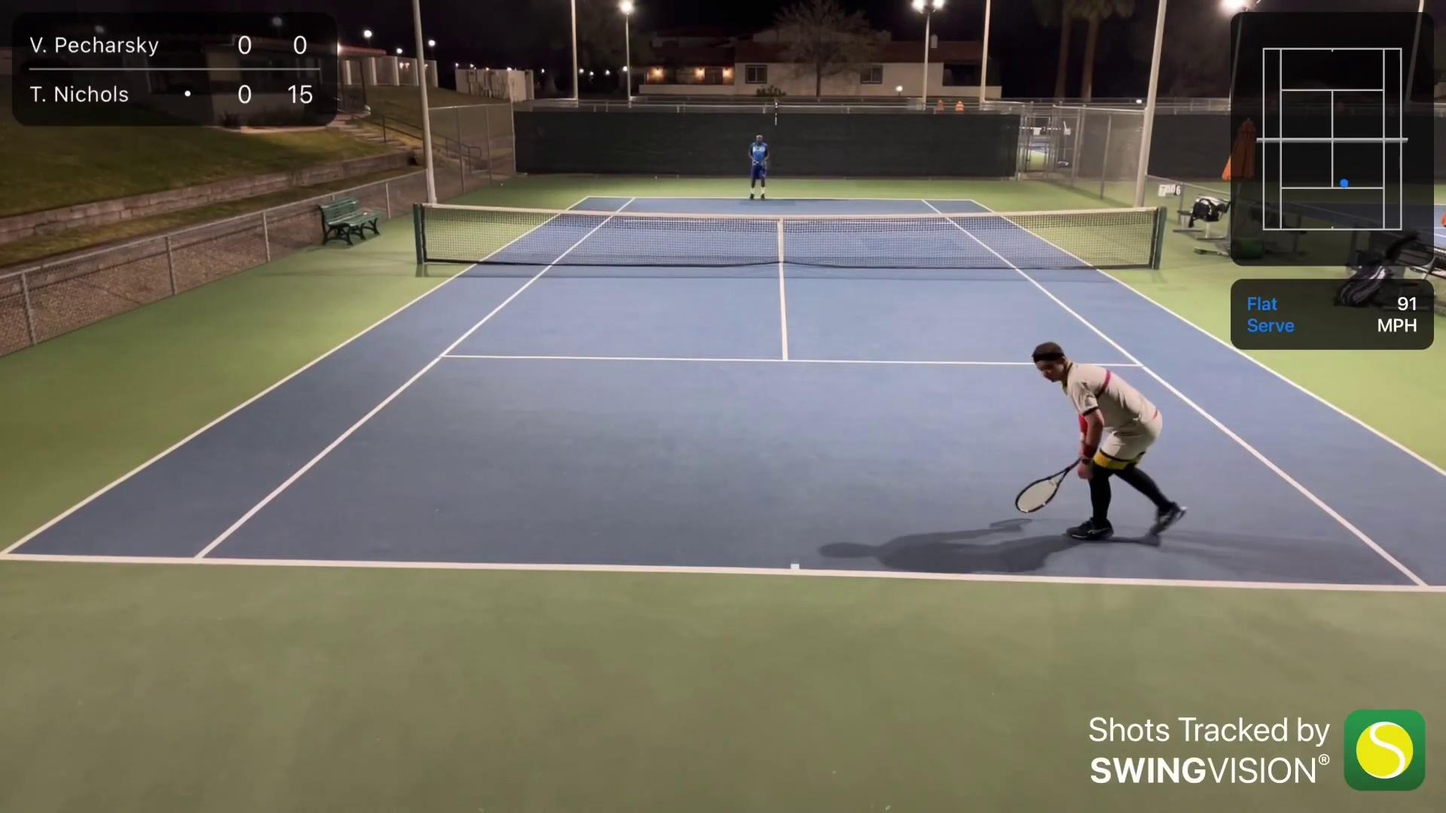ball: (651, 174, 661, 180), (497, 181, 505, 188)
